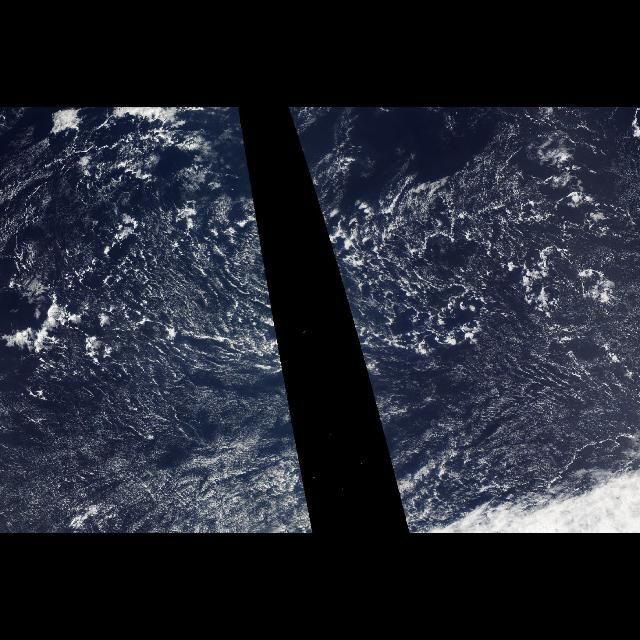Gravel: (312, 182, 640, 418), (75, 182, 292, 418)
Sugar: (0, 366, 314, 532), (444, 326, 640, 478), (366, 366, 428, 532)
